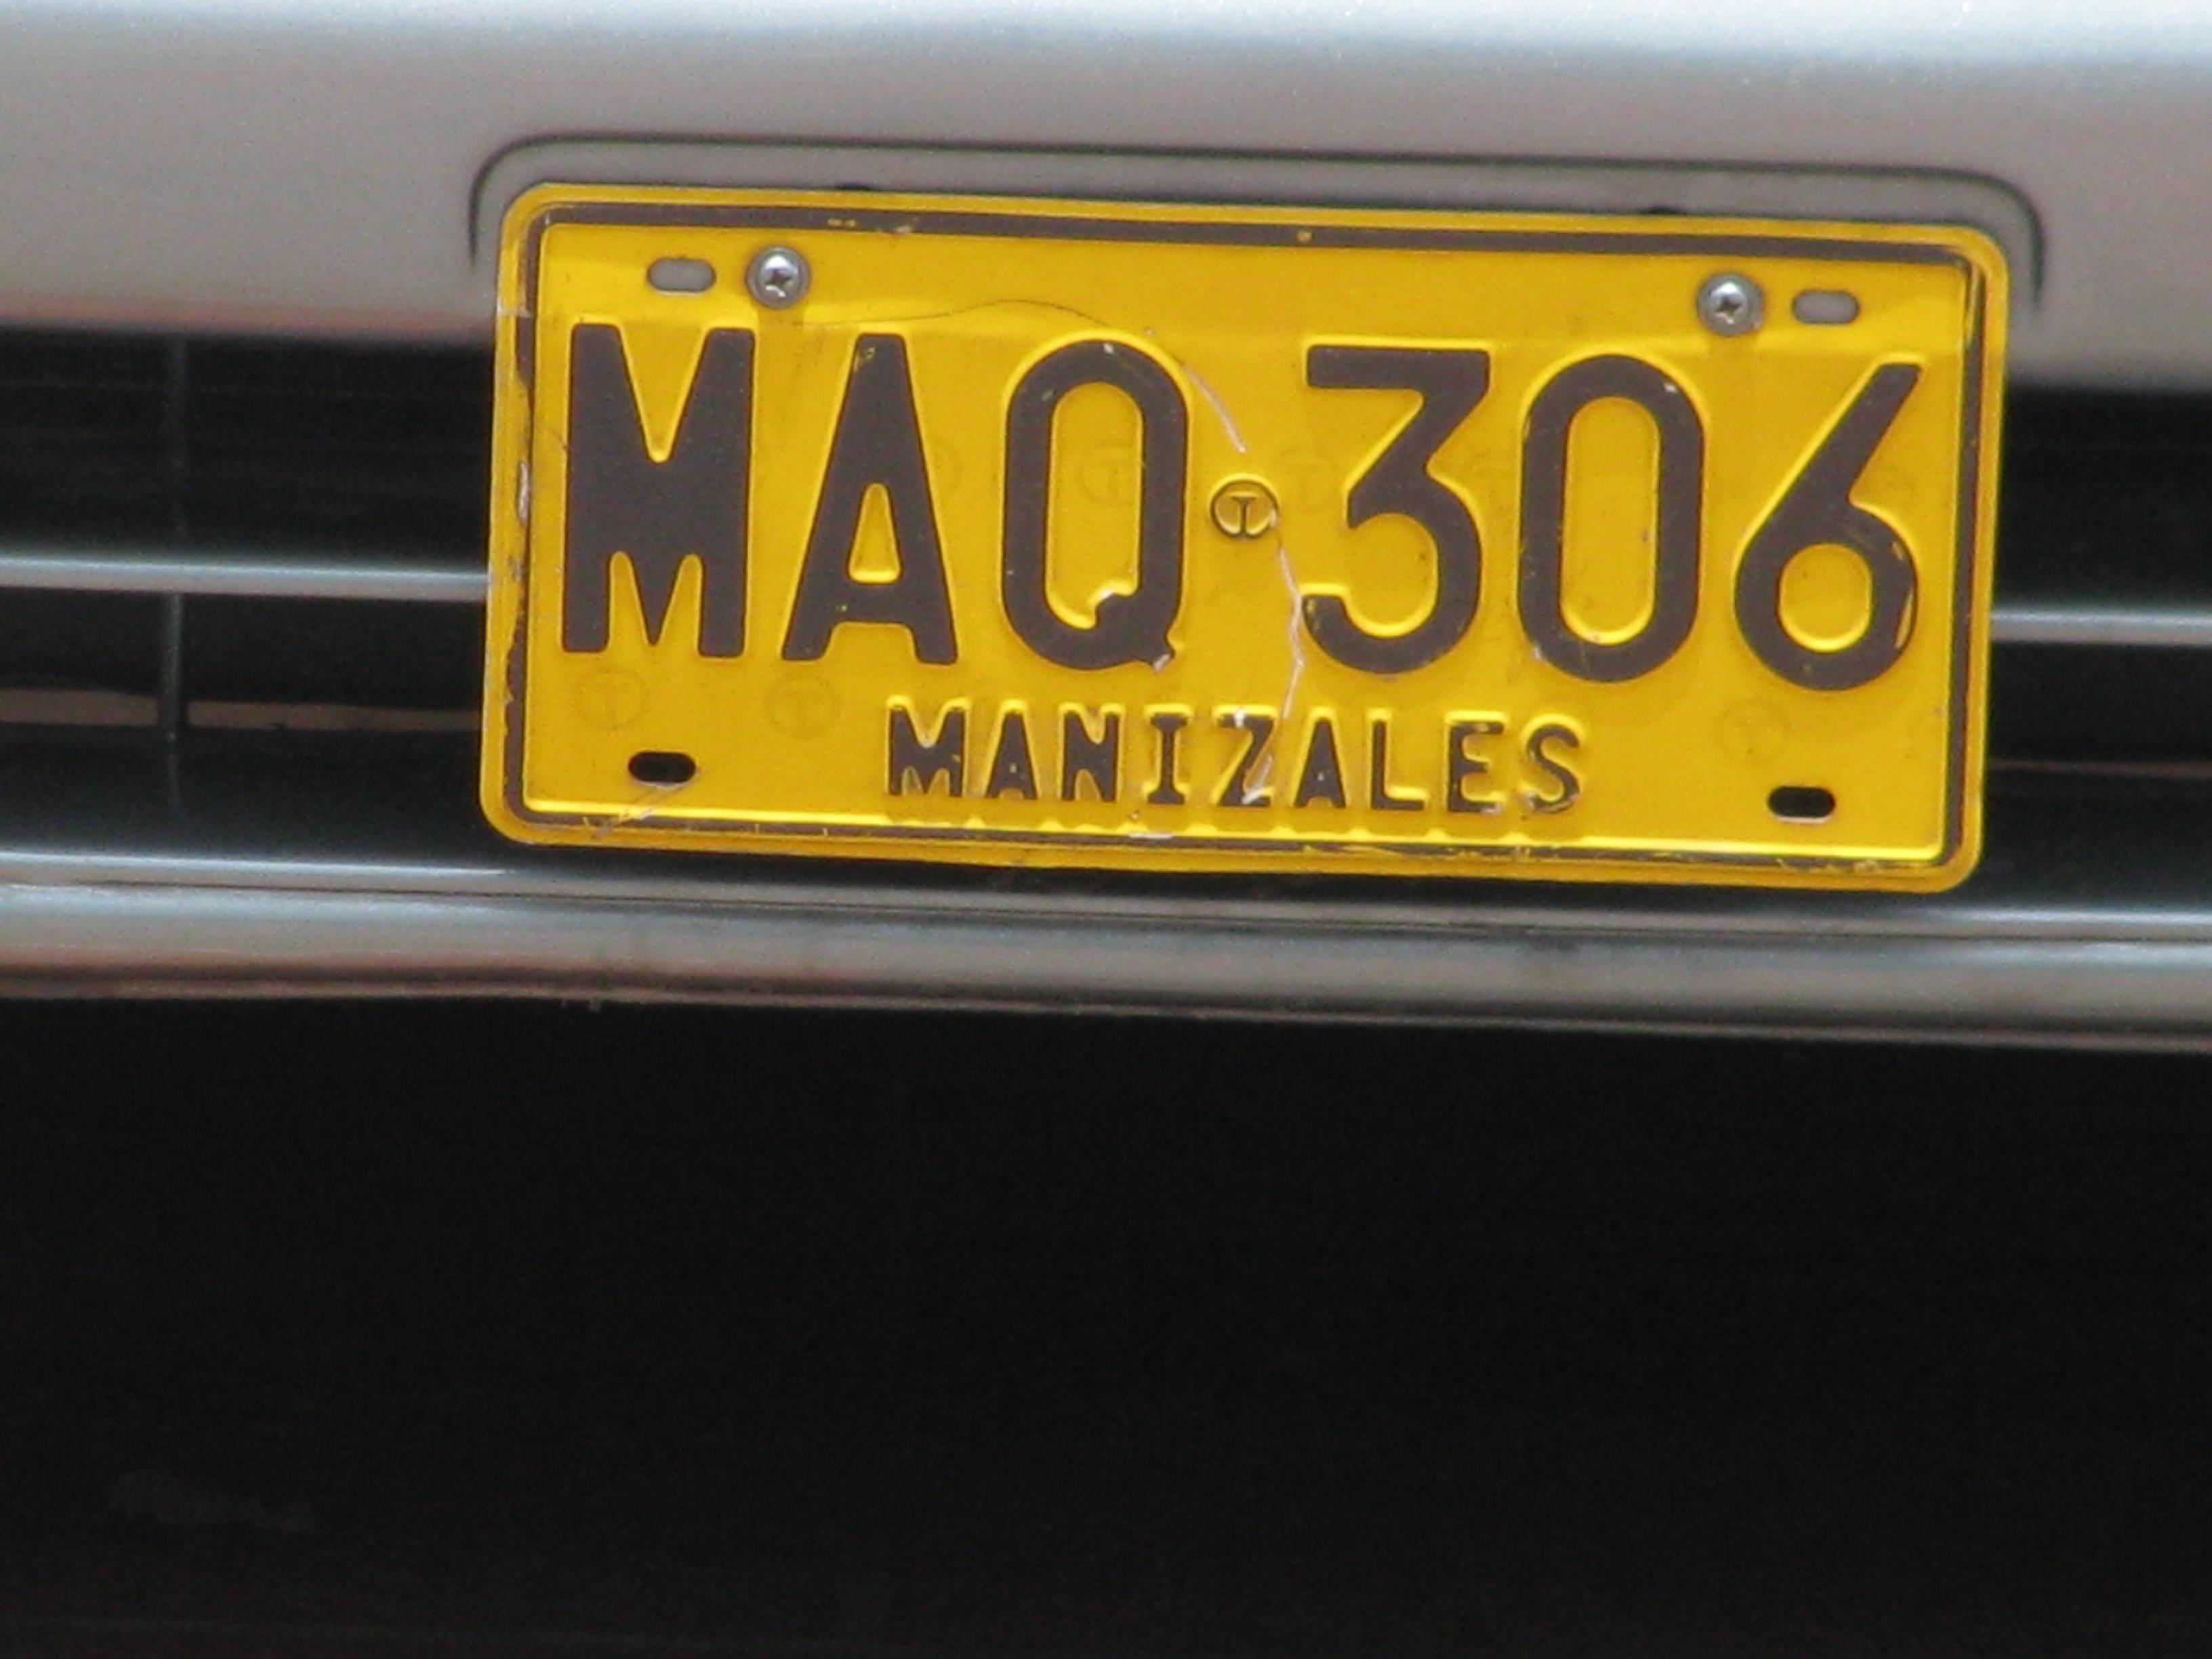placas: (464, 135, 2025, 926)
